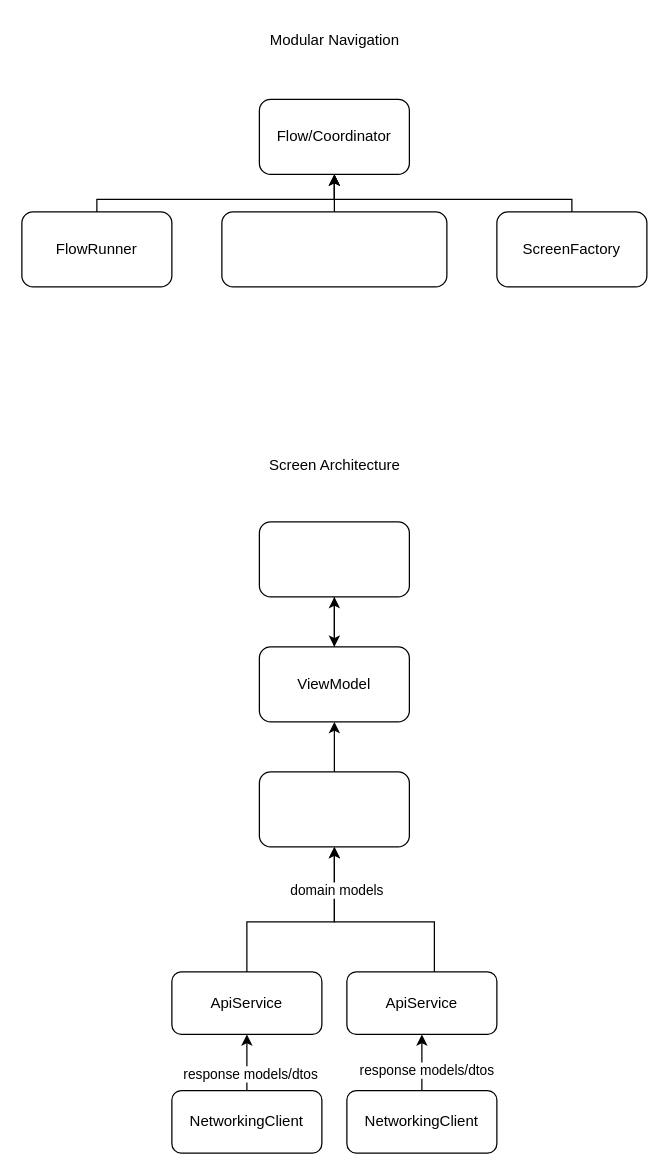
Image size: 669x1175. Some labels were removed from this diagram. Each missing label, with the box of its shape:
NavigationController/Router: (221, 211, 447, 287)
ScreenInteractor: (258, 771, 409, 847)
ViewController/Views: (258, 521, 409, 597)
